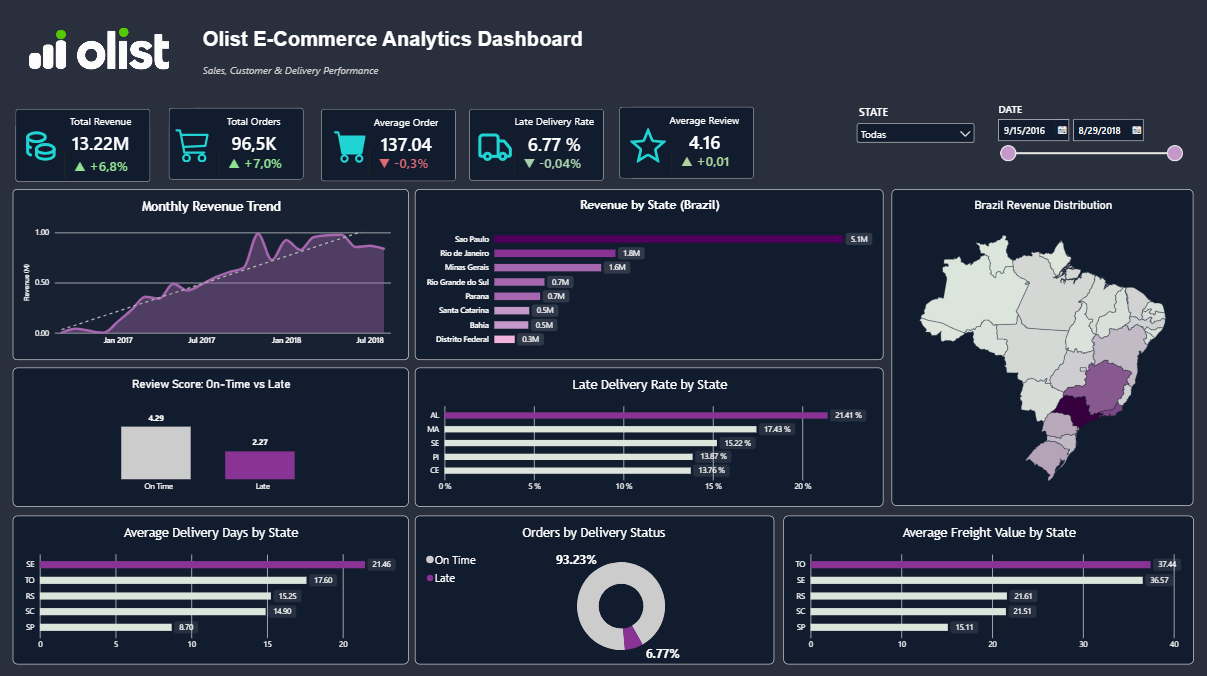

The dashboard page shown, as its layout file describes it:
{"tool":"powerbi","page":{"name":"Sales & Customer ","canvas":[1920,1080],"ordinal":0},"visuals":[{"type":"cardVisual","fields":{"Data":["vw_powerbi_orders.Average Review Score"]},"box":[981.2,166.8,223.4,123],"z":0,"group":"g5"},{"type":"cardVisual","fields":{"Data":["vw_powerbi_orders.Total Orders Display"]},"box":[266.3,167.6,223.1,123],"z":0,"group":"g2"},{"type":"cardVisual","fields":{"Data":["vw_powerbi_orders.Total Revenue Millions"]},"box":[24,169.7,223.4,125.8],"z":0,"group":"g1"},{"type":"cardVisual","fields":{"Data":["vw_powerbi_orders.Average Order Value"]},"box":[507.6,169.7,223.1,124.4],"z":0,"group":"g3"},{"type":"cardVisual","fields":{"Data":["vw_powerbi_orders.Late Delivery Rate"]},"box":[743.7,169.7,223.4,123],"z":0,"group":"g4"},{"type":"cardVisual","fields":{"Data":["vw_powerbi_orders.Total Orders Display"]},"box":[1005.2,330.8,175.4,126.9],"z":1000},{"type":"lineChart","title":"Monthly Revenue Trend","fields":{"Category":["vw_powerbi_orders.order_purchase_timestamp.Variación.Jerarquía de fechas.Año","vw_powerbi_orders.order_purchase_timestamp.Variación.Jerarquía de fechas.Mes"],"Y":["vw_powerbi_orders.Total Revenue Millions"]},"box":[23.5,302.3,628.1,271],"z":2000},{"type":"clusteredBarChart","title":"Revenue by State (Brazil)","fields":{"Category":["vw_powerbi_orders.State Name"],"Y":["vw_powerbi_orders.Revenue M"]},"box":[661,302.3,744,271],"z":3000},{"type":"columnChart","title":"Review Score: On-Time vs Late","fields":{"Category":["vw_powerbi_orders.Delivery Status"],"Y":["vw_powerbi_orders.Average Review Score"]},"box":[23.5,584.3,628.1,220.9],"z":4000},{"type":"barChart","title":"Late Delivery Rate by State","fields":{"Category":["vw_powerbi_orders.customer_state"],"Y":["vw_powerbi_orders.Late Delivery Rate"]},"box":[661,584.3,744,220.9],"z":5000},{"type":"barChart","title":"Average Delivery Days by State","fields":{"Category":["vw_powerbi_orders.customer_state"],"Y":["Avg(vw_powerbi_orders.delivery_days)"]},"box":[23.5,819.2,628.1,236.5],"z":6000},{"type":"barChart","title":"Average Freight Value by State","fields":{"Category":["vw_powerbi_orders.customer_state"],"Y":["vw_powerbi_orders.Average Freight Value"]},"box":[1246.8,819.2,651.6,236.5],"z":7000},{"type":"textbox","box":[325.2,46.7,680,140],"z":8000},{"type":"slicer","fields":{"Values":["vw_powerbi_orders.order_purchase_timestamp"]},"box":[1579.2,162.6,304,148.5],"z":9000},{"type":"slicer","fields":{"Values":["vw_powerbi_orders.customer_state"]},"box":[1358.7,166.8,196,150.5],"z":10000},{"type":"image","box":[9.9,0,301.1,161.2],"z":11000},{"type":"donutChart","title":"Orders by Delivery Status","fields":{"Category":["vw_powerbi_orders.Delivery Status"],"Y":["vw_powerbi_orders.Orders Count"]},"box":[661,819.2,570.2,236.5],"z":12000},{"type":"group","id":"g1","title":"Grupo 1","box":[24,169.7,291.7,125.8],"z":13000},{"type":"group","id":"g2","title":"Grupo 1","box":[266.3,167.6,292.7,123],"z":14000},{"type":"group","id":"g3","title":"Grupo 1","box":[507.6,169.7,289.4,124.4],"z":15000},{"type":"group","id":"g4","title":"Grupo 1","box":[743.7,169.7,285.2,123],"z":16000},{"type":"group","id":"g5","title":"Grupo 1","box":[981.2,166.8,226,123],"z":17000},{"type":"image","box":[1000,195,64.2,79.9],"z":17000,"group":"g5"},{"type":"image","box":[41.2,196.3,56.4,73.6],"z":17000,"group":"g1"},{"type":"image","box":[281.5,196.4,56.5,69.7],"z":17000,"group":"g2"},{"type":"image","box":[759.9,196.9,58,76.8],"z":17000,"group":"g4"},{"type":"image","box":[531.8,200,53.3,67.4],"z":17000,"group":"g3"},{"type":"cardVisual","fields":{"Data":["vw_powerbi_orders.Review Change Label"]},"box":[1067.2,233.5,140,48.3],"z":18000,"group":"g5"},{"type":"cardVisual","fields":{"Data":["vw_powerbi_orders.AOV Growth Label"]},"box":[587.4,233.8,209.6,53.4],"z":18000,"group":"g3"},{"type":"cardVisual","fields":{"Data":["vw_powerbi_orders.Late Delivery Change Label"]},"box":[819.1,233.8,209.8,53.4],"z":18000,"group":"g4"},{"type":"cardVisual","fields":{"Data":["vw_powerbi_orders.Orders Growth Label"]},"box":[349.5,234.5,209.5,50.4],"z":18000,"group":"g2"},{"type":"cardVisual","fields":{"Data":["vw_powerbi_orders.Revenue Growth Label"]},"box":[106,237.8,209.8,52.7],"z":18000,"group":"g1"},{"type":"shapeMap","title":"Brazil Revenue Distribution","fields":{"Category":["vw_powerbi_orders.State Name"],"Value":["vw_powerbi_orders.Revenue M"]},"box":[1419.1,302.3,479.3,502.8],"z":18000},{"type":"textbox","box":[660.3,35.3,189.5,104.6],"z":19000}]}

Visuals, with their boxes in screenshot pixels (x1, y1, x2, y2), scaled from the page's 1920x1080 canvas onto the 1207x676 screenshot:
cardVisual - vw_powerbi_orders.Average Review Score: <box>617,104,757,181</box>
cardVisual - vw_powerbi_orders.Total Orders Display: <box>167,105,308,182</box>
cardVisual - vw_powerbi_orders.Total Revenue Millions: <box>15,106,156,185</box>
cardVisual - vw_powerbi_orders.Average Order Value: <box>319,106,459,184</box>
cardVisual - vw_powerbi_orders.Late Delivery Rate: <box>468,106,608,183</box>
cardVisual - vw_powerbi_orders.Total Orders Display: <box>632,207,742,286</box>
"Monthly Revenue Trend" lineChart: <box>15,189,410,359</box>
"Revenue by State (Brazil)" clusteredBarChart: <box>416,189,883,359</box>
"Review Score: On-Time vs Late" columnChart: <box>15,366,410,504</box>
"Late Delivery Rate by State" barChart: <box>416,366,883,504</box>
"Average Delivery Days by State" barChart: <box>15,513,410,661</box>
"Average Freight Value by State" barChart: <box>784,513,1193,661</box>
textbox: <box>204,29,632,117</box>
slicer - vw_powerbi_orders.order_purchase_timestamp: <box>993,102,1184,195</box>
slicer - vw_powerbi_orders.customer_state: <box>854,104,977,199</box>
image: <box>6,0,196,101</box>
"Orders by Delivery Status" donutChart: <box>416,513,774,661</box>
"Grupo 1" group: <box>15,106,198,185</box>
"Grupo 1" group: <box>167,105,351,182</box>
"Grupo 1" group: <box>319,106,501,184</box>
"Grupo 1" group: <box>468,106,647,183</box>
"Grupo 1" group: <box>617,104,759,181</box>
image: <box>629,122,669,172</box>
image: <box>26,123,61,169</box>
image: <box>177,123,212,167</box>
image: <box>478,123,514,171</box>
image: <box>334,125,368,167</box>
cardVisual - vw_powerbi_orders.Review Change Label: <box>671,146,759,176</box>
cardVisual - vw_powerbi_orders.AOV Growth Label: <box>369,146,501,180</box>
cardVisual - vw_powerbi_orders.Late Delivery Change Label: <box>515,146,647,180</box>
cardVisual - vw_powerbi_orders.Orders Growth Label: <box>220,147,351,178</box>
cardVisual - vw_powerbi_orders.Revenue Growth Label: <box>67,149,199,182</box>
"Brazil Revenue Distribution" shapeMap: <box>892,189,1193,504</box>
textbox: <box>415,22,534,88</box>
